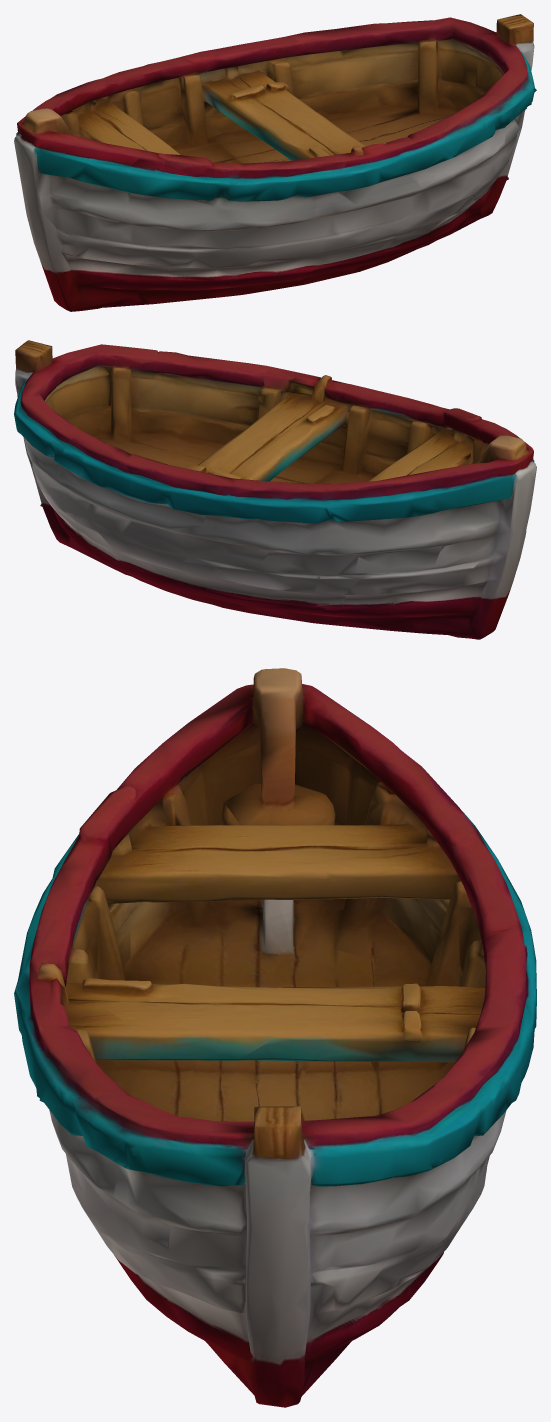
Rendered from prop-boat.glb.
3 renders of one model, top to bottom at view 1: azimuth 30°, elevation 25°; view 2: azimuth 150°, elevation 25°; view 3: azimuth 270°, elevation 25°, orthographic. The views are drawn at different scales.
Parts seen in each view (by area): view 1: tripo_node_66f0c48f-d4d9-461e-99f4-58a777f98c4c; view 2: tripo_node_66f0c48f-d4d9-461e-99f4-58a777f98c4c; view 3: tripo_node_66f0c48f-d4d9-461e-99f4-58a777f98c4c.
Boxes of the visible parts, x1,y1,x2,y2 form: tripo_node_66f0c48f-d4d9-461e-99f4-58a777f98c4c: (14,14,536,311); tripo_node_66f0c48f-d4d9-461e-99f4-58a777f98c4c: (14,340,536,639); tripo_node_66f0c48f-d4d9-461e-99f4-58a777f98c4c: (14,668,536,1407).
Size of the model in its own units: 1 by 0.3915 by 0.5147.
Materials: 1 (1 with a texture image).
